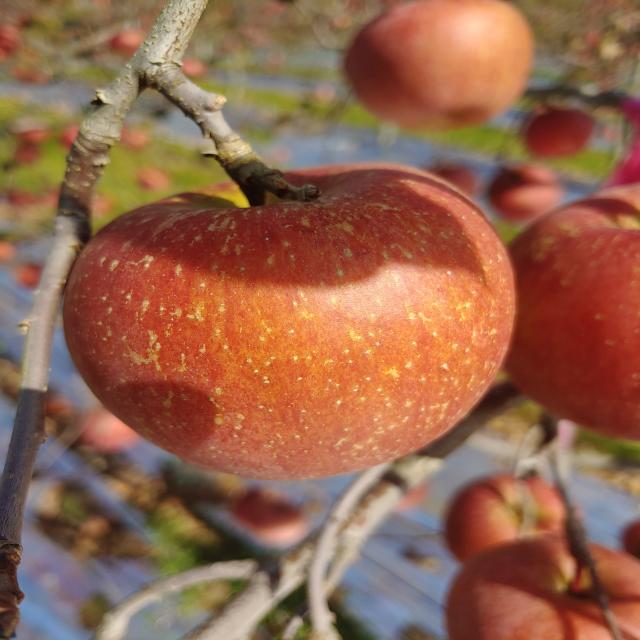fresh: (52, 154, 527, 487)
